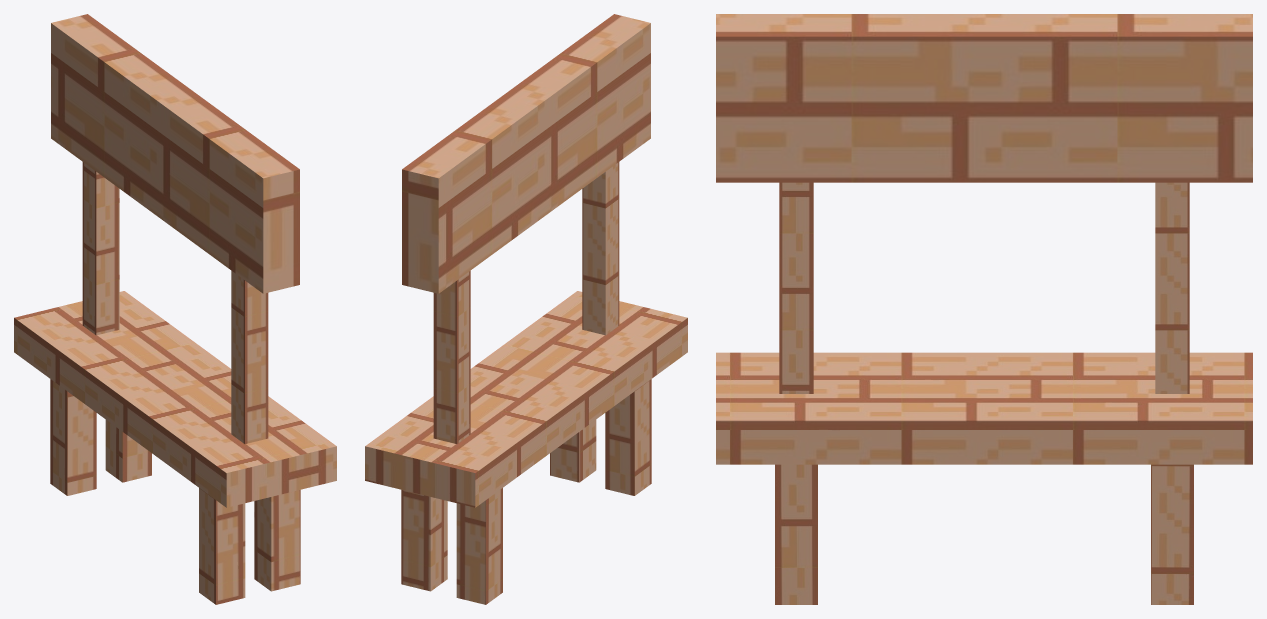
The model's file is Mesa1.fbx.
3 renders of one model, left to right at view 1: azimuth 30°, elevation 25°; view 2: azimuth 150°, elevation 25°; view 3: azimuth 270°, elevation 25°, orthographic. The views are drawn at different scales.
Parts seen in each view (by area): view 1: MesaNormalLetrero; view 2: MesaNormalLetrero; view 3: MesaNormalLetrero.
Part boxes in pixels (x1=…): MesaNormalLetrero: x1=14, y1=14, x2=336, y2=604; MesaNormalLetrero: x1=365, y1=14, x2=687, y2=604; MesaNormalLetrero: x1=716, y1=14, x2=1252, y2=604.
Bounding box in the file's own units: 600 × 2275 × 2000.
